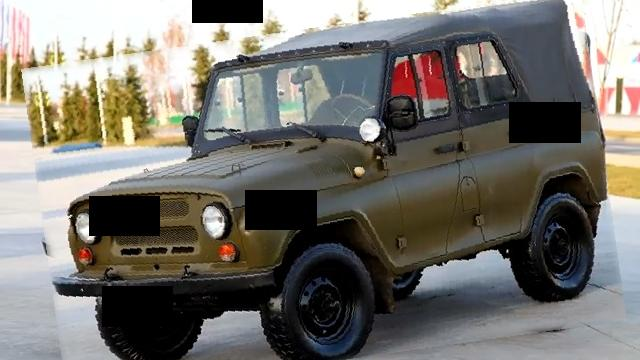MIL_HMMWV: (31, 8, 616, 360)
